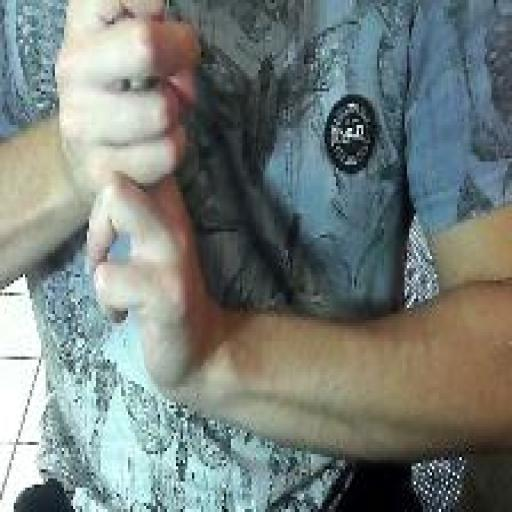Ne -rat-: (51, 0, 215, 414)
